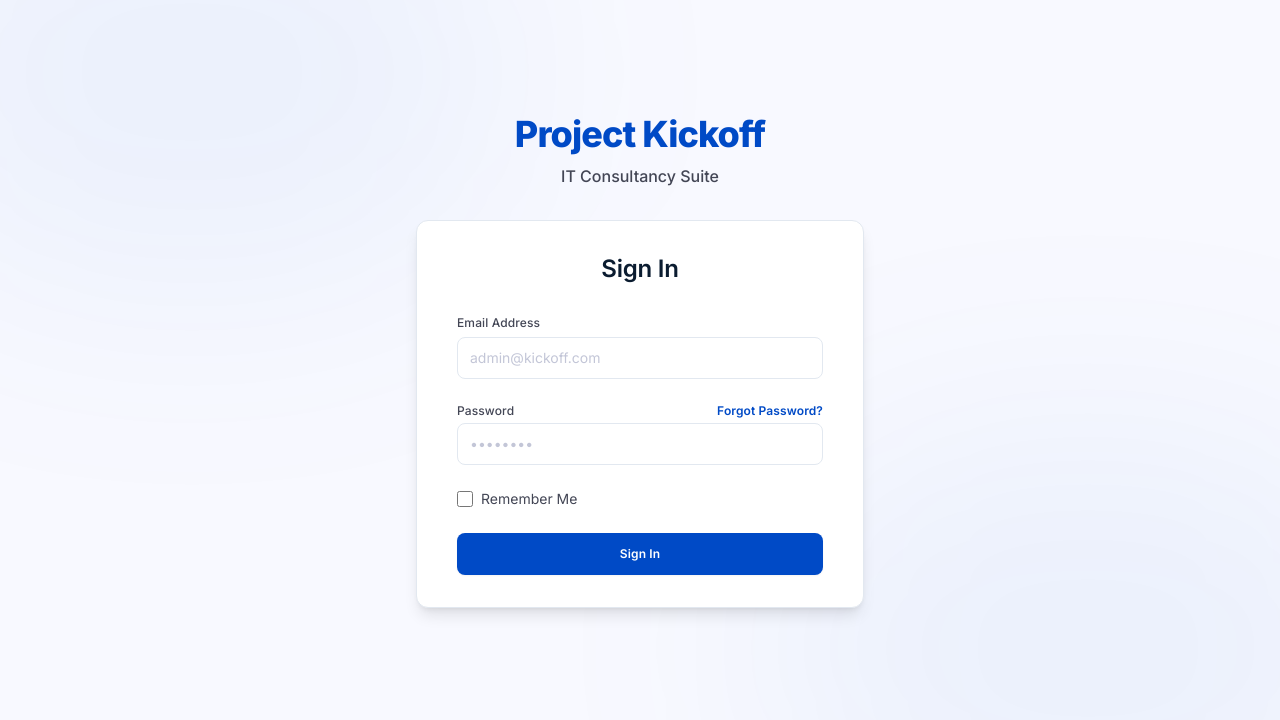
Test: Authentication Flow (Login) › displays error on invalid credentials
This screenshot has width=1280, height=720.
Type "wrong@test.com" into the field with placeholder "admin@kickoff.com".
click(640, 358); type("wrong@test.com")  # box [457,337,823,379]
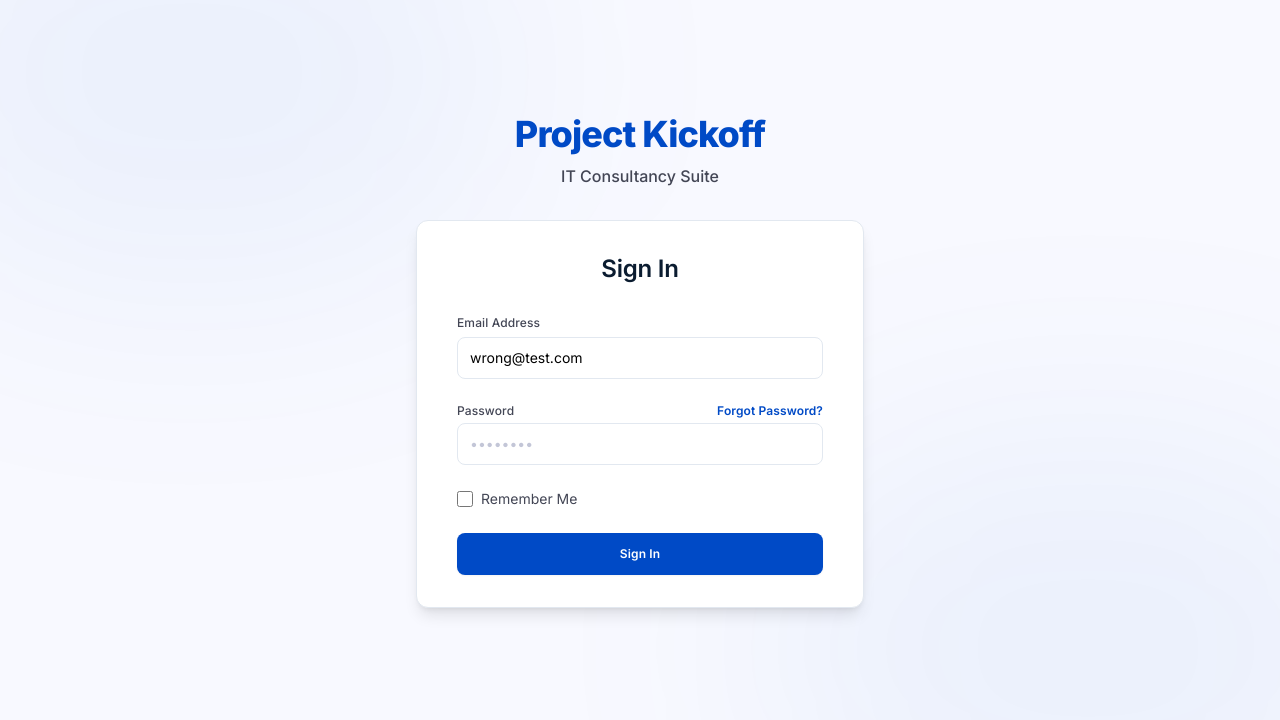
Type "wrongpass" into the password field with placeholder "••••••••".
click(640, 444); type("wrongpass")  # box [457,423,823,465]
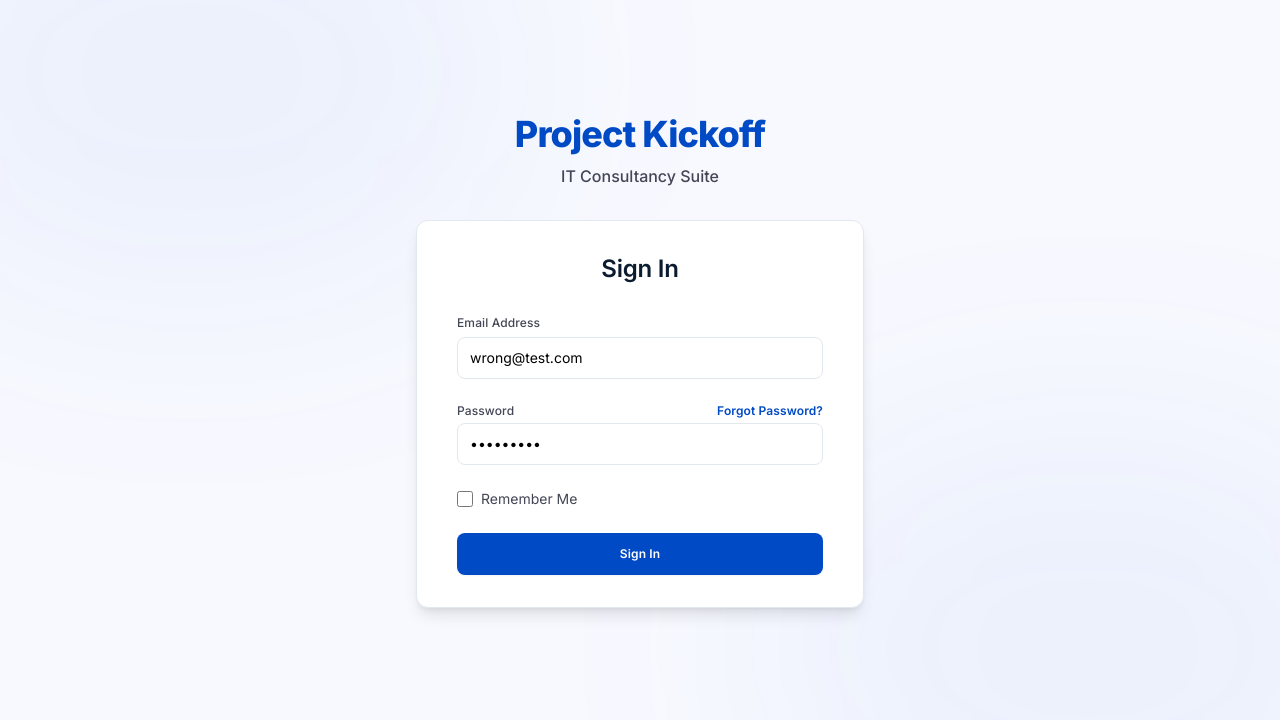
Click the button "Sign In".
click(640, 554)  # box [457,533,823,575]
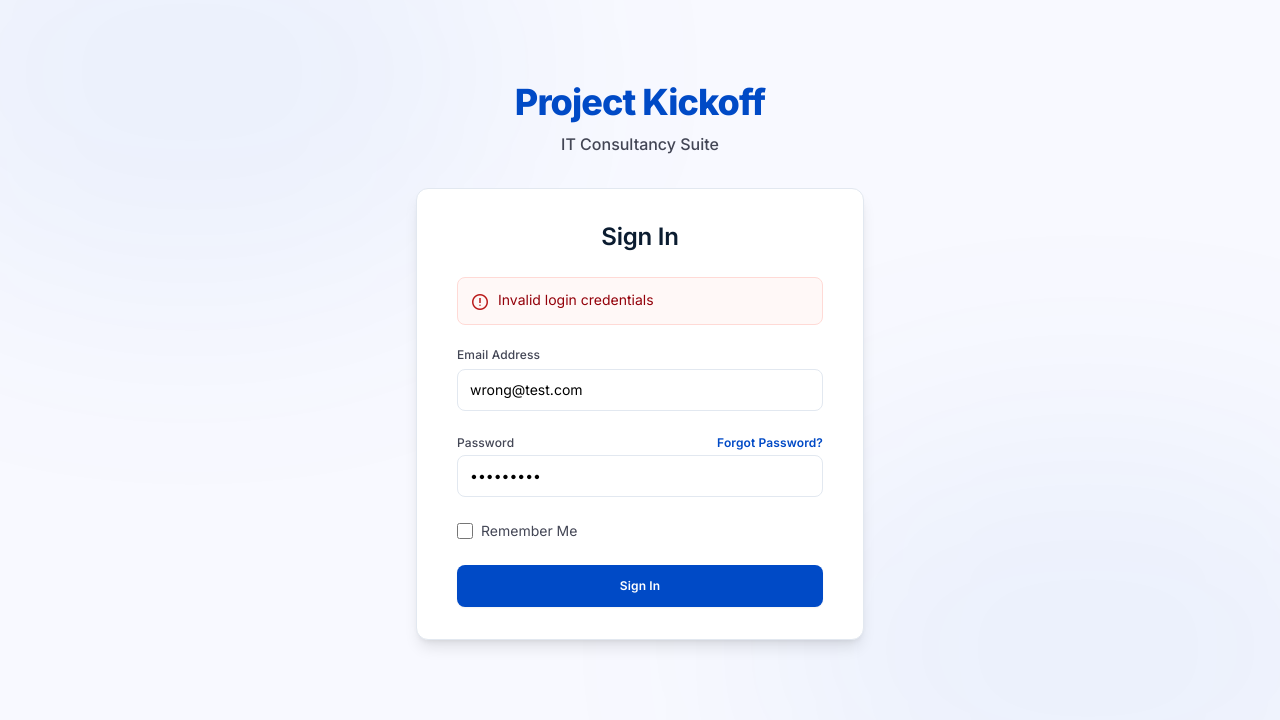
Expected: the text "Invalid login credentials" is shown, [498,290,654,310]
